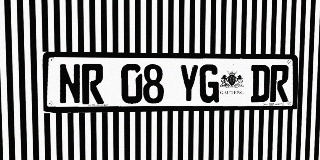0: (121, 64, 142, 104)
8: (143, 64, 164, 104)
D: (250, 65, 270, 102)
G: (199, 64, 219, 103)
N: (58, 64, 81, 105)
R: (82, 64, 104, 104), (270, 65, 289, 102)
Y: (178, 64, 199, 103)
